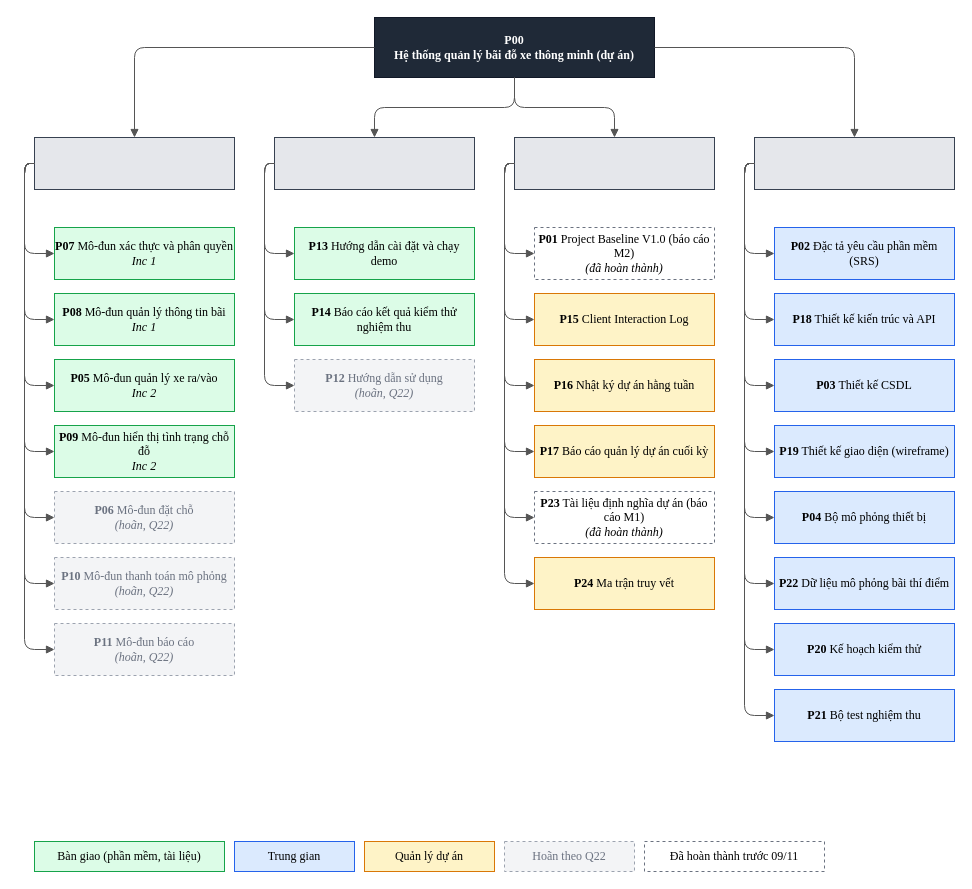
Some shapes in this 972 by 889 pixel diagram are drawn without their labels. The box of each missing label's shape, as (x1, y1, x2, y2) in pixels:
PG-1 Phần mềm bàn giao: (34, 136, 234, 190)
PG-2 Tài liệu bàn giao: (274, 136, 474, 190)
PG-3 Sản phẩm quản lý dự án: (514, 136, 714, 190)
PG-4 Sản phẩm trung gian: (754, 136, 954, 190)
